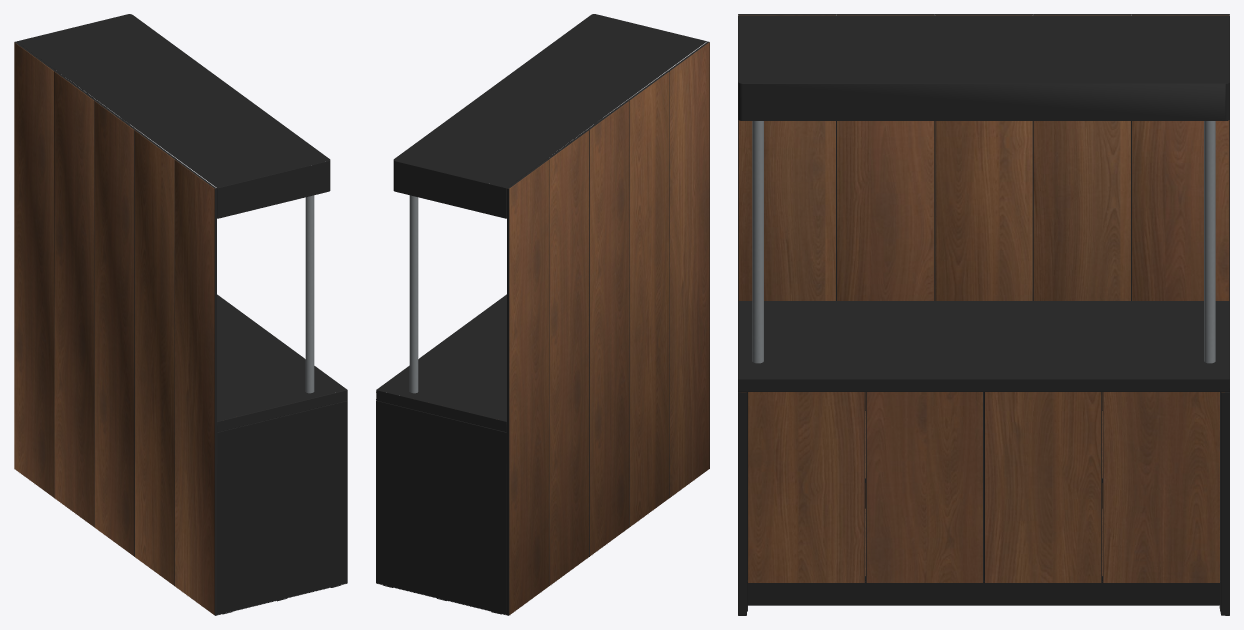
The model's file is furniture_counter_coffeeStation_a01.glb.
3 renders of one model, left to right at view 1: azimuth 30°, elevation 25°; view 2: azimuth 150°, elevation 25°; view 3: azimuth 270°, elevation 25°, orthographic. The views are drawn at different scales.
Visible parts, largest first — view 1: sm_furniture_counter_coffeeStation_a01_01; view 2: sm_furniture_counter_coffeeStation_a01_01; view 3: sm_furniture_counter_coffeeStation_a01_01.
Boxes of the visible parts, x1,y1,x2,y2 form: sm_furniture_counter_coffeeStation_a01_01: (14, 14, 347, 615); sm_furniture_counter_coffeeStation_a01_01: (376, 14, 709, 615); sm_furniture_counter_coffeeStation_a01_01: (738, 14, 1229, 615).
Bounding box in the file's own units: 0.65 × 2 × 1.7.
Materials: 33 (20 with a texture image).
